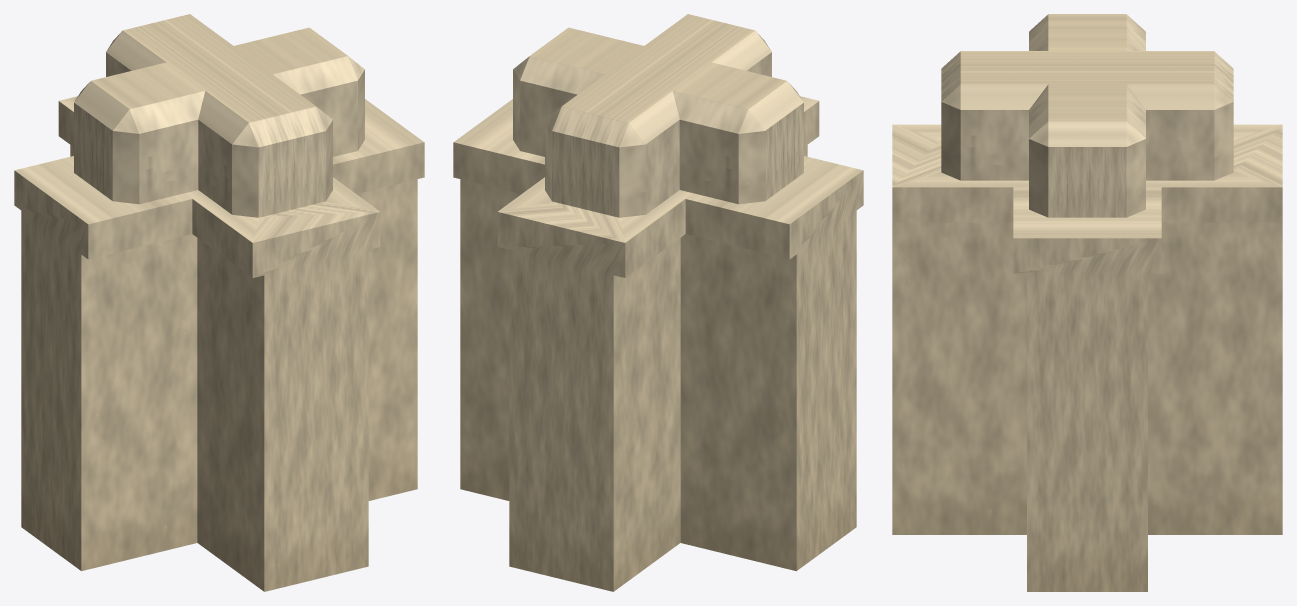
The picture shows the model from 3 angles, left to right: view 1: azimuth 30°, elevation 25°; view 2: azimuth 150°, elevation 25°; view 3: azimuth 270°, elevation 25°; orthographic projection.
Parts seen in each view (by area): view 1: wall; view 2: wall; view 3: wall.
Part boxes in pixels (bbox=[...]): wall: bbox=[14, 14, 424, 591]; wall: bbox=[453, 14, 863, 591]; wall: bbox=[892, 14, 1282, 591].
Bounding box in the file's own units: 1 × 1.25 × 1.
Materials: 1 (1 with a texture image).
